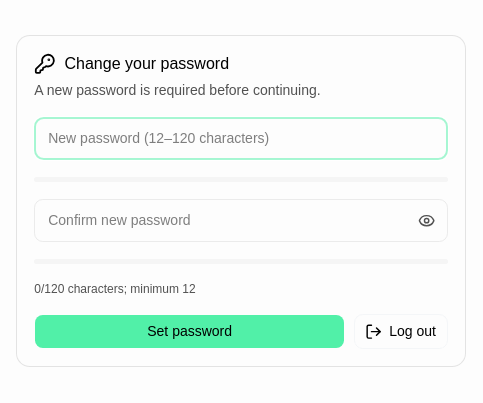
ChangePassword › rejects mismatched passwords without making a request
Type "ValidPassword123!" into the password field labelled "New password".
click(241, 138); type("ValidPassword123!")  # box [34,117,448,160]
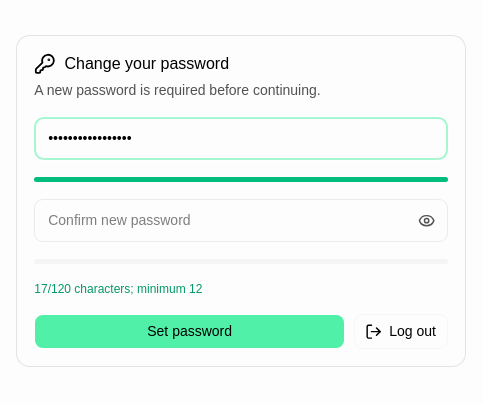
Type "DifferentPassword123!" into the password field labelled "Confirm new password".
click(241, 220); type("DifferentPassword123!")  # box [34,199,448,242]
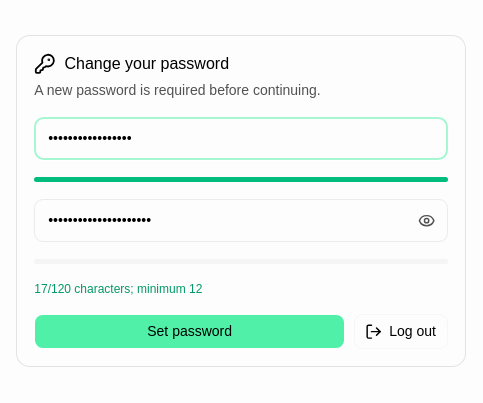
Click the button "Set password".
click(190, 331)  # box [34,314,345,349]
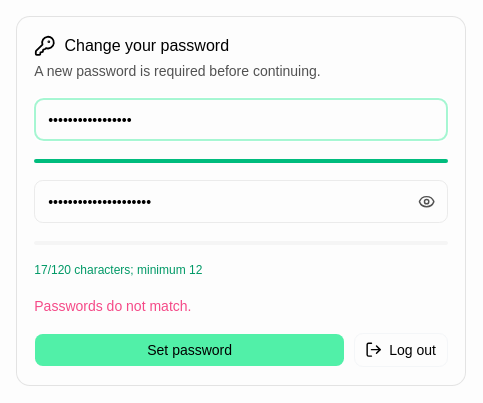
Expected: the message reads "Passwords do not match.", [34,298,192,314]
